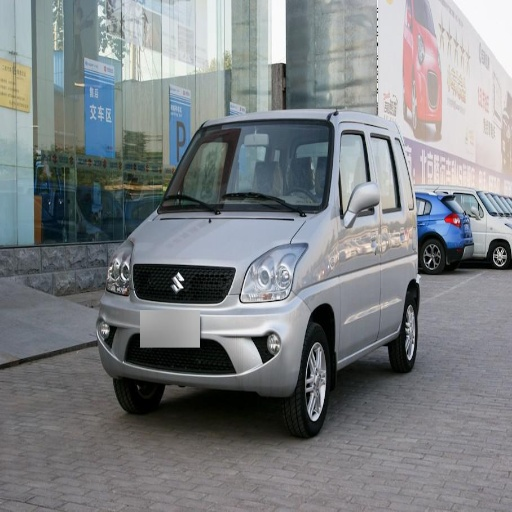back_left_door: (368, 127, 413, 335)
front_bumper: (98, 262, 308, 396)
front_glass: (160, 121, 331, 217)
front_left_door: (338, 126, 379, 357)
